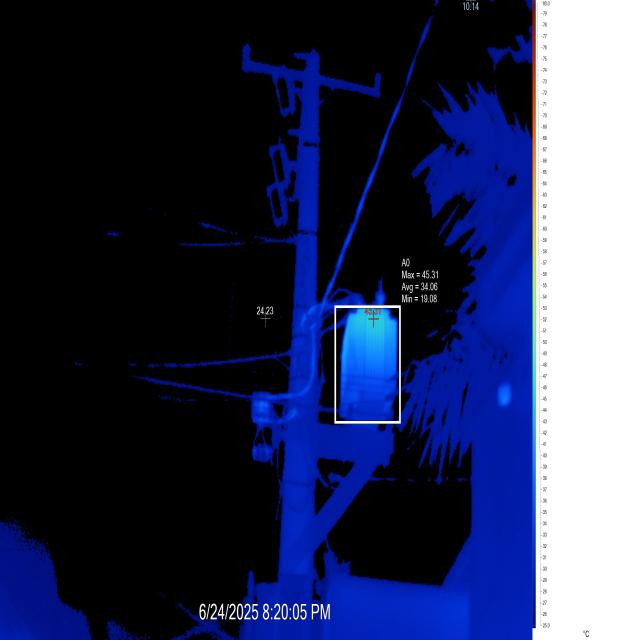Transformer: (30, 12, 432, 594)
